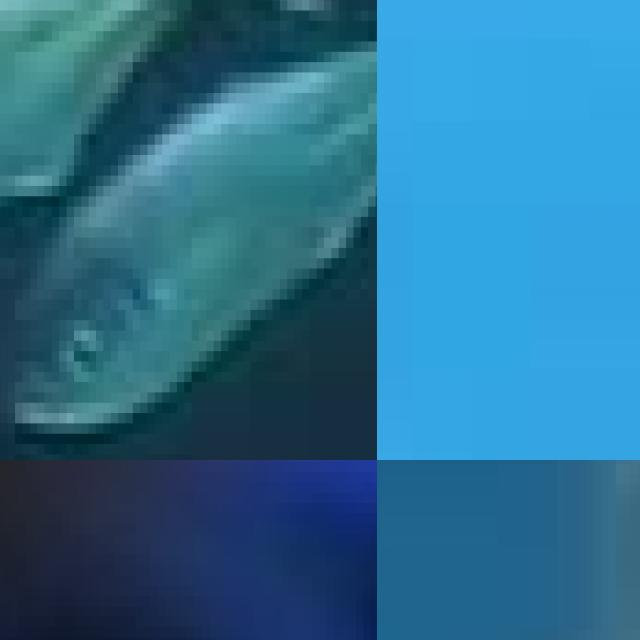fish: (0, 0, 377, 460), (377, 460, 640, 640)
